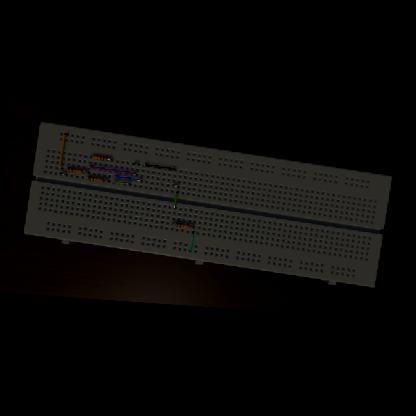breadboard: (21, 120, 394, 288)
resistor: (174, 221, 190, 227), (87, 175, 103, 181), (66, 166, 82, 172), (92, 154, 108, 160)
wire: (87, 164, 138, 174), (58, 132, 67, 168), (142, 163, 176, 170), (113, 174, 142, 180), (173, 190, 178, 207), (188, 230, 192, 250), (113, 180, 130, 184), (58, 171, 66, 174), (172, 184, 179, 186), (132, 162, 139, 164), (190, 224, 194, 226), (82, 171, 88, 172), (172, 222, 174, 223), (85, 176, 87, 177), (90, 155, 92, 156), (102, 180, 108, 180), (65, 168, 66, 168), (106, 158, 112, 158)
